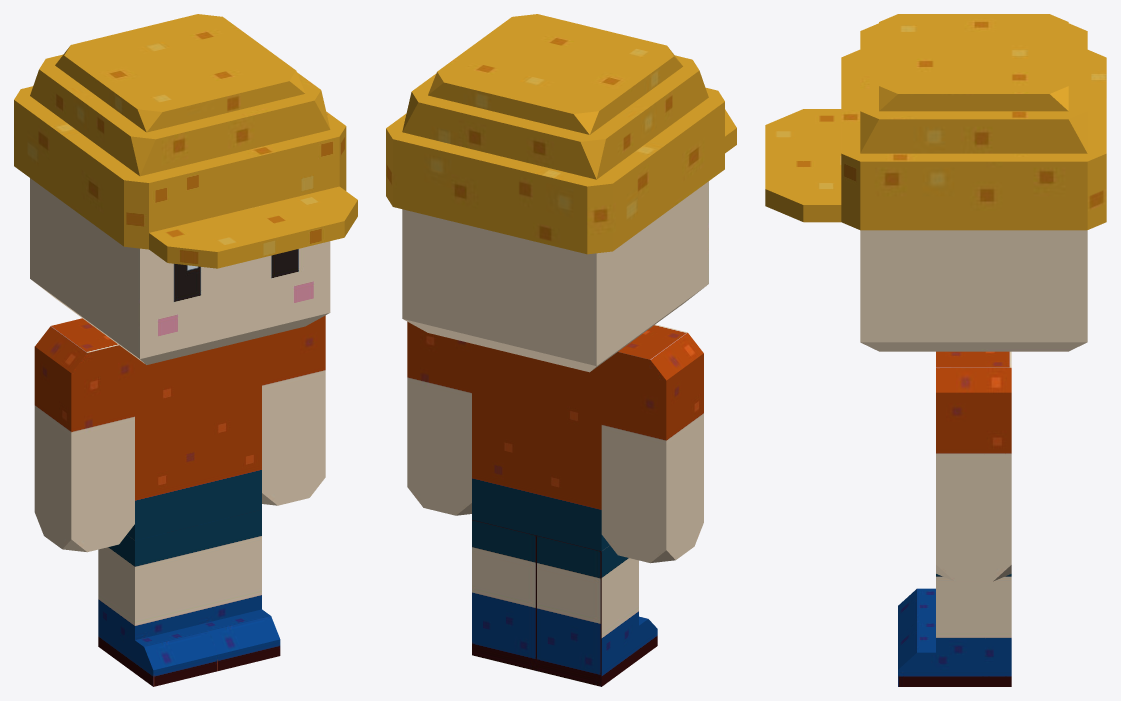
3 renders of one model, left to right at view 1: azimuth 30°, elevation 25°; view 2: azimuth 150°, elevation 25°; view 3: azimuth 270°, elevation 25°, orthographic. The views are drawn at different scales.
Parts seen in each view (by area): view 1: Box030, Box004, Box011, Box022, Box008, Box006; view 2: Box030, Box004, Box011, Box022, Box008, Box006; view 3: Box030, Box008, Box006, Box022.
Part boxes in pixels (x1,y1,x2,y2): Box030: [14, 14, 357, 364]; Box004: [127, 337, 261, 540]; Box011: [34, 318, 134, 552]; Box022: [98, 525, 216, 686]; Box008: [262, 315, 325, 505]; Box006: [198, 509, 280, 671]; Box030: [386, 14, 736, 372]; Box004: [472, 343, 609, 551]; Box011: [601, 324, 703, 563]; Box022: [537, 535, 657, 686]; Box008: [407, 322, 471, 515]; Box006: [472, 520, 536, 670]; Box030: [765, 14, 1106, 351]; Box008: [936, 351, 1011, 581]; Box006: [898, 574, 1011, 686]; Box022: [898, 588, 935, 637].
Bounding box in the file's own units: 240 × 525 × 270.
